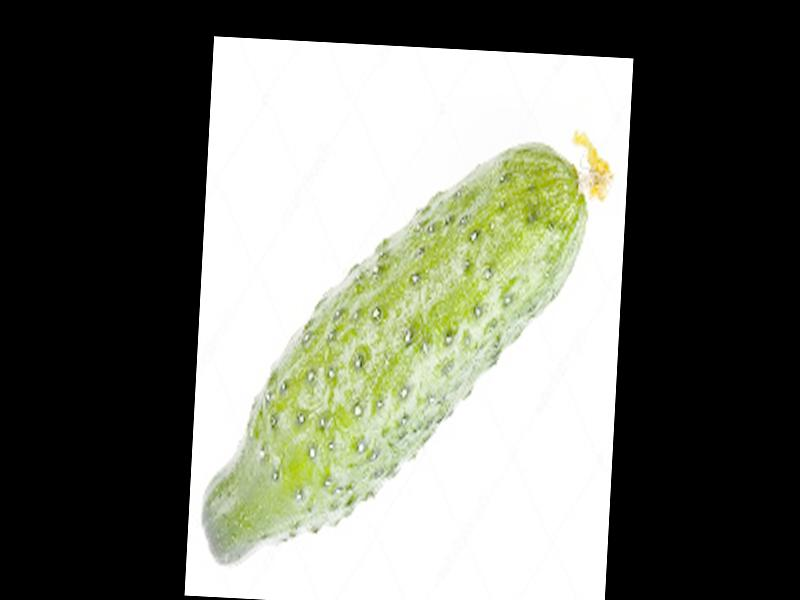Cucumber: (201, 113, 615, 585)
